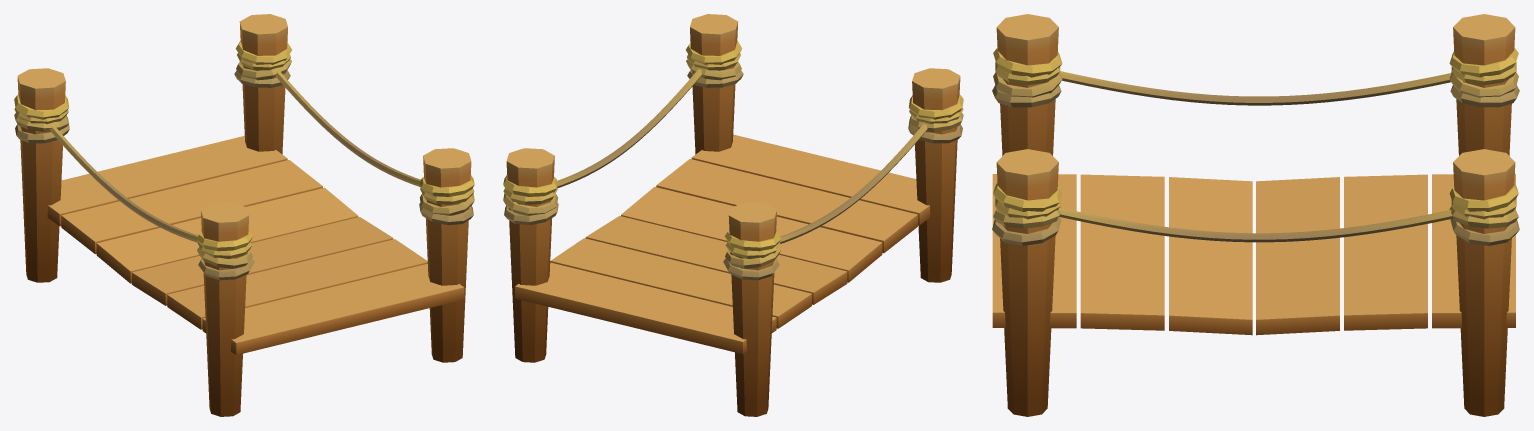
File: Bridge_Small.fbx
3 views of the same model, side by side, from view 1: azimuth 30°, elevation 25°; view 2: azimuth 150°, elevation 25°; view 3: azimuth 270°, elevation 25° (orthographic). The views are drawn at different scales.
Parts seen in each view (by area): view 1: Bridge_small; view 2: Bridge_small; view 3: Bridge_small.
Boxes of the visible parts, box(x1,y1,x2,y2) form: Bridge_small: box(14, 14, 474, 416); Bridge_small: box(503, 14, 963, 416); Bridge_small: box(992, 14, 1519, 416).
Size of the model in its own units: 85.35 by 59.55 by 116.
